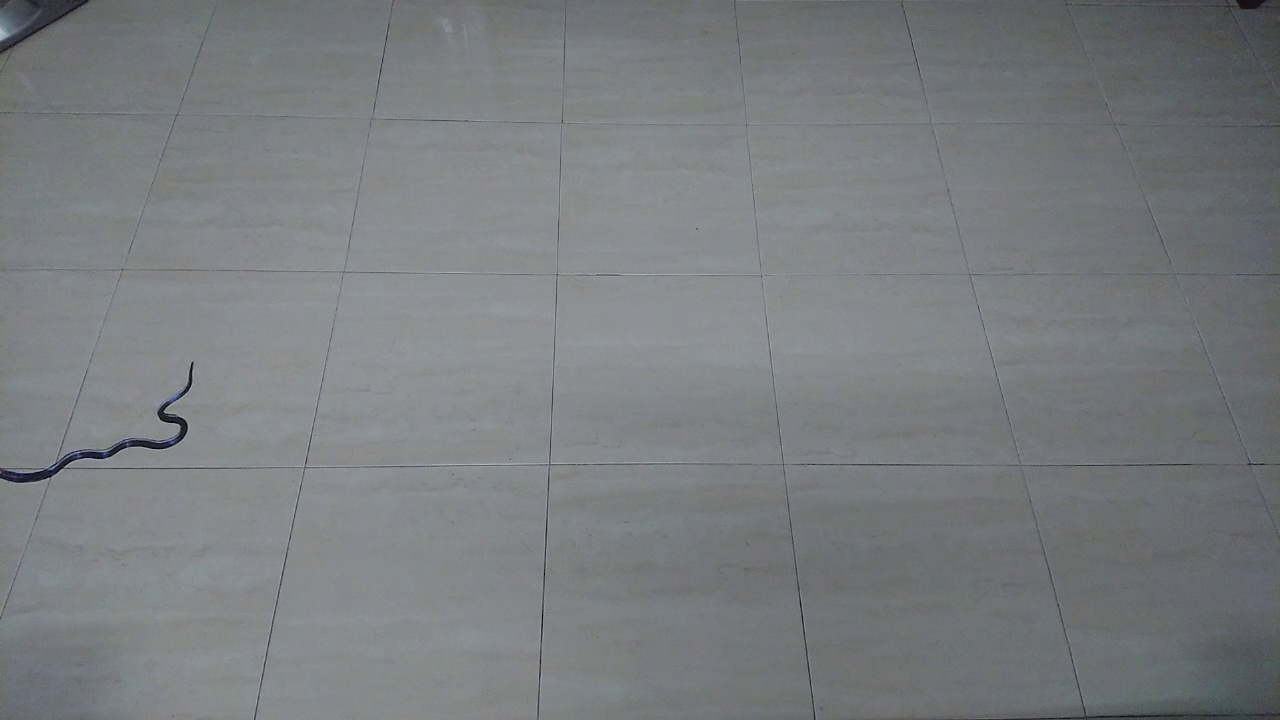snake: (1, 352, 208, 495)
